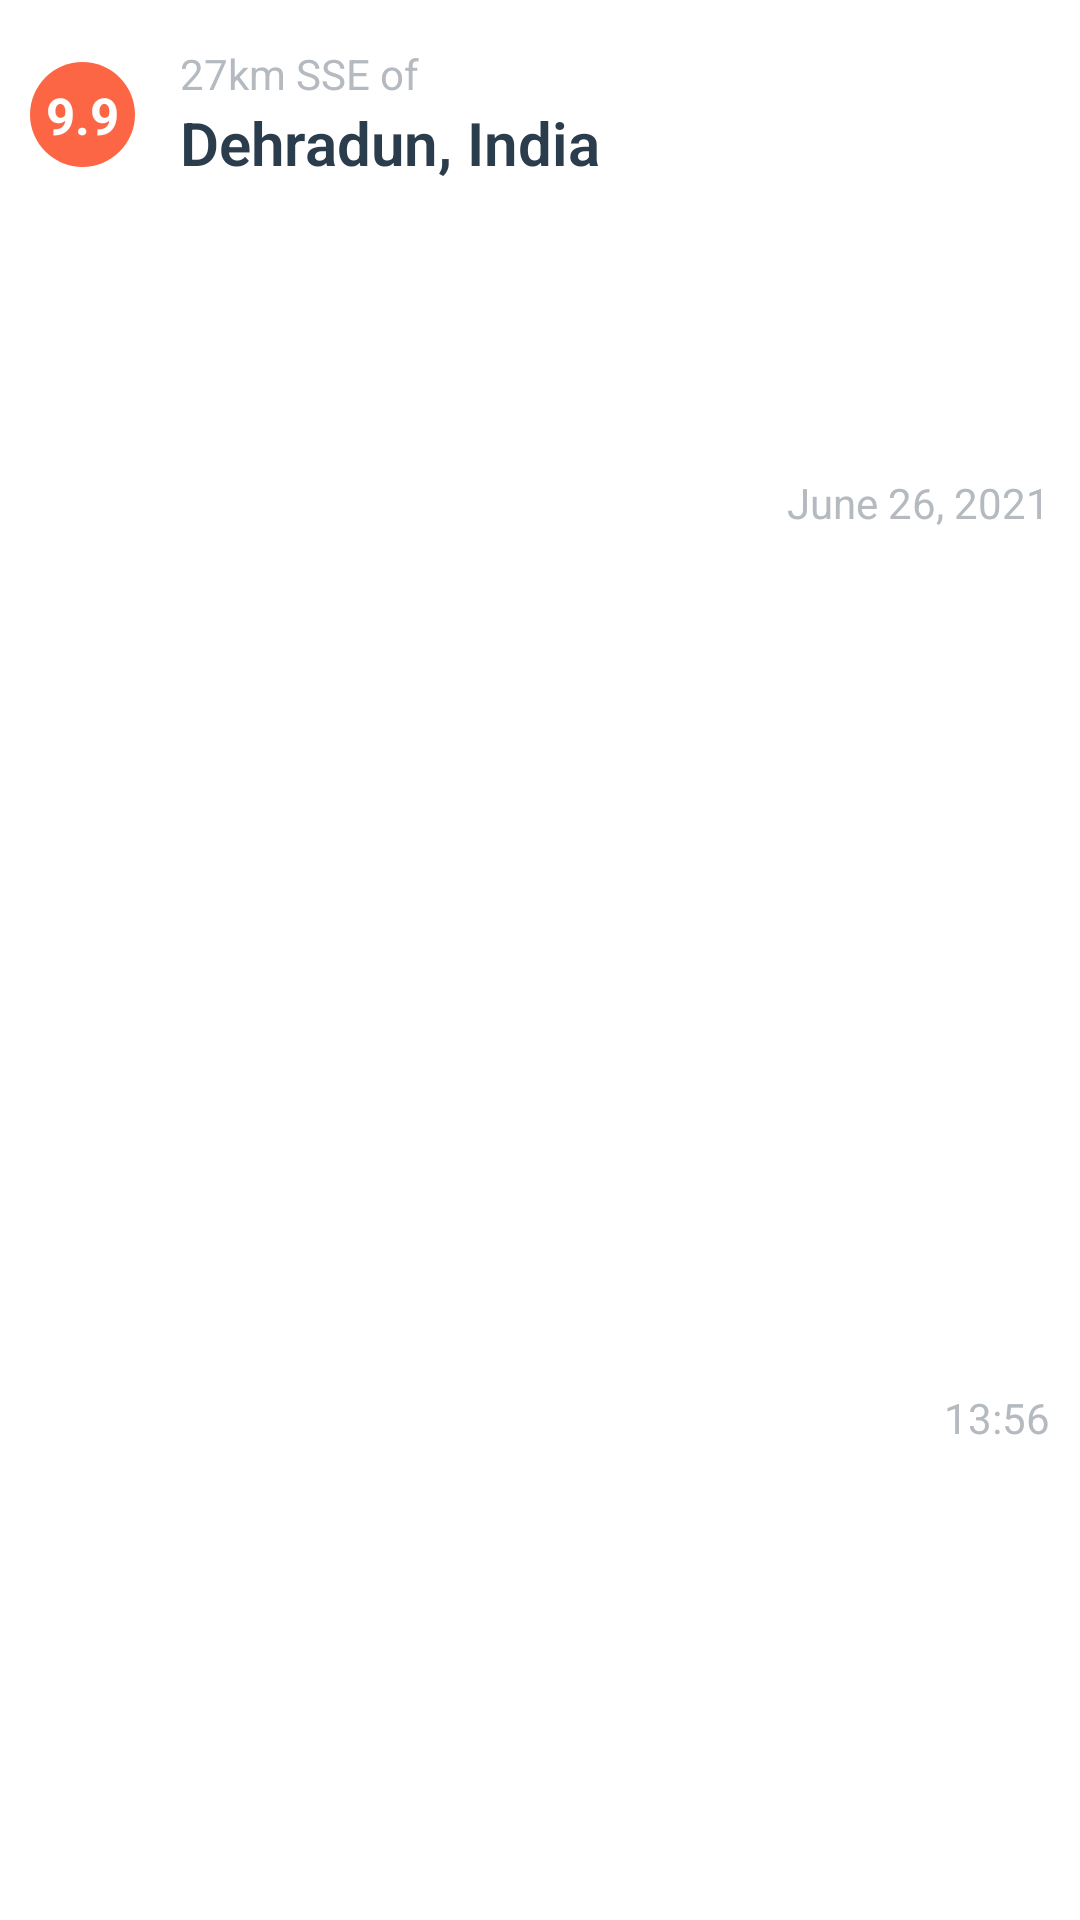

Icon click points for this 1080*1920 phone screenshot, format [x,y]:
mag circle: [82,114]
